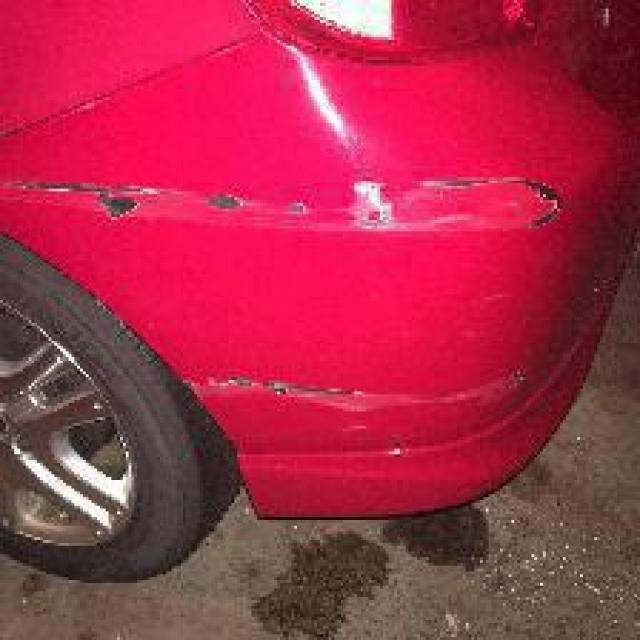damaged: (8, 171, 580, 243), (186, 368, 548, 426)
